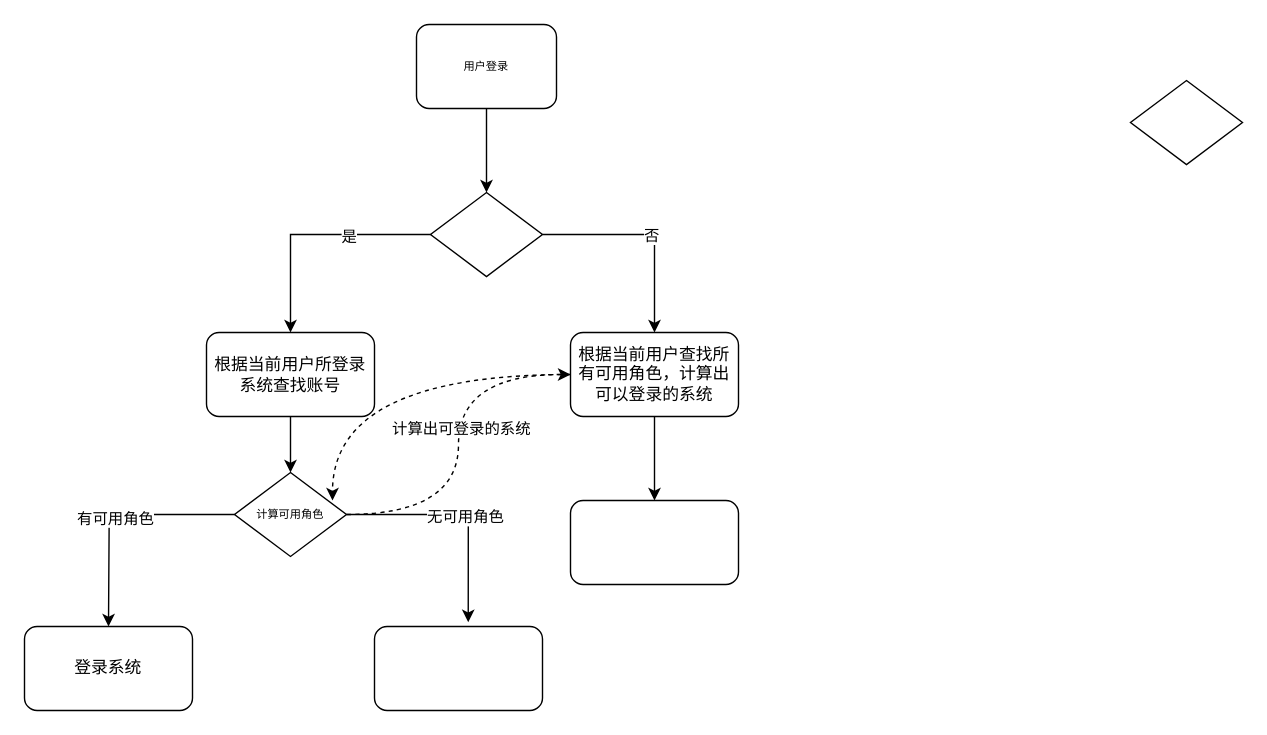
Some shapes in this 1267 by 735 pixel diagram are drawn without their labels. Each missing label, with the centre of its shape:
"是否携带sys_id" belongs at point (485, 233).
"认证失败信息提示" belongs at point (457, 667).
"选择系统进行登录" belongs at point (653, 541).
